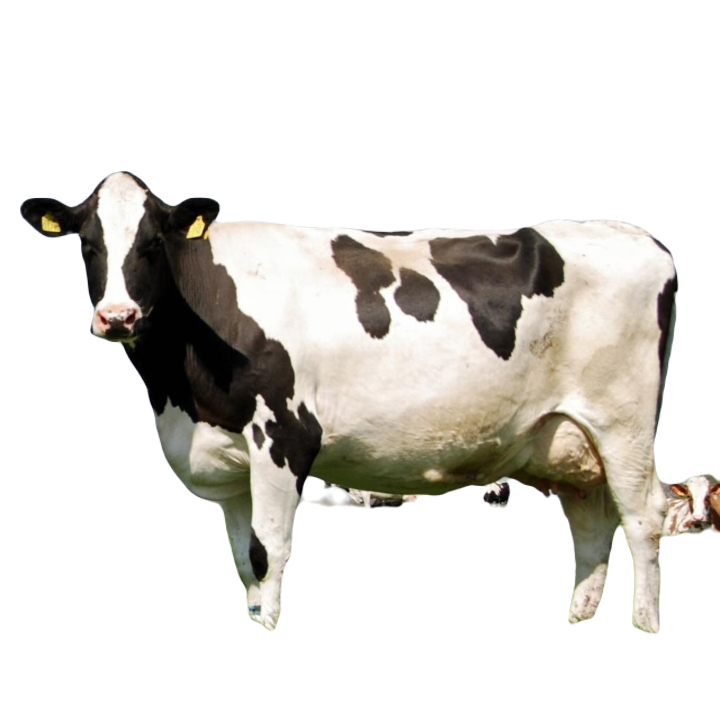Cow: (18, 168, 678, 637)
